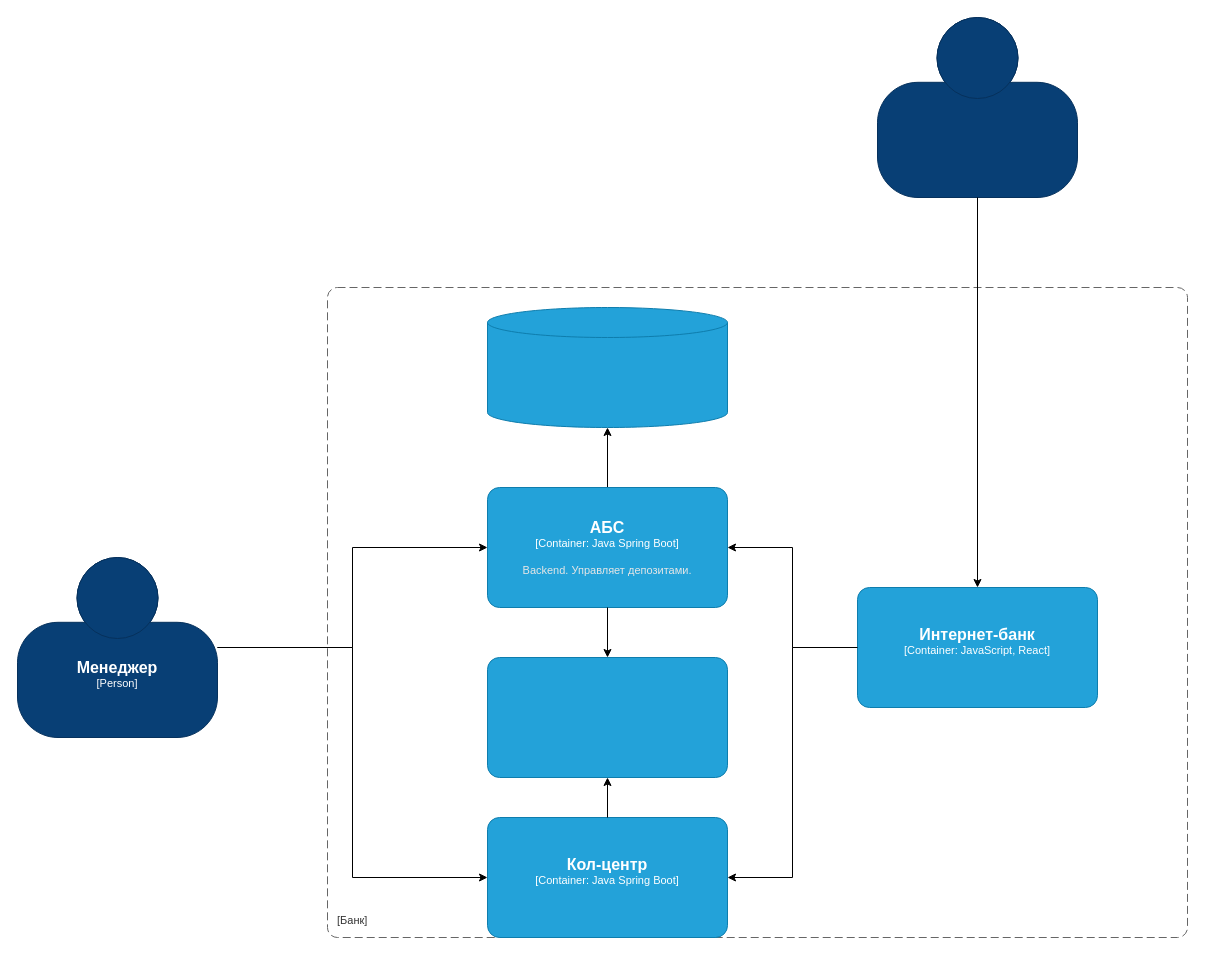
This 1205x955 diagram has some shape labels left out. The shapes that lost their labels are listed below. From the top down, each one's centre as x and y in pixels, then its label:
the point at 977,107: Клиент [Person] Клиент
the point at 607,367: База данных [Container: Oracle ] База данных АБС
the point at 607,717: XLSX файлы [Container: XLSX] Файлы с актуальными ставками
